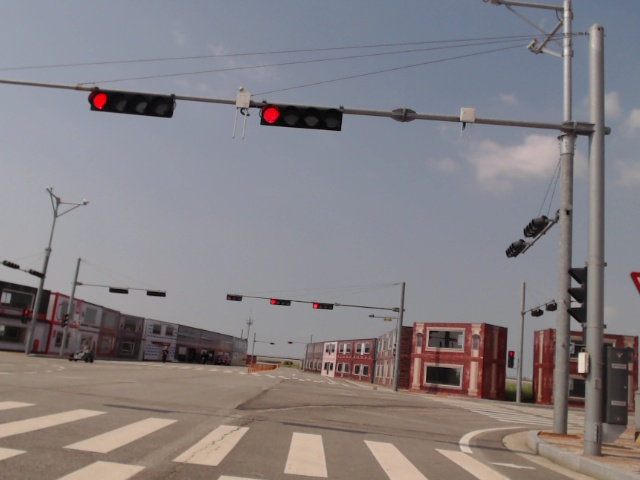red_4: (88, 86, 172, 119), (258, 101, 343, 131), (269, 297, 292, 308), (311, 302, 335, 311)
